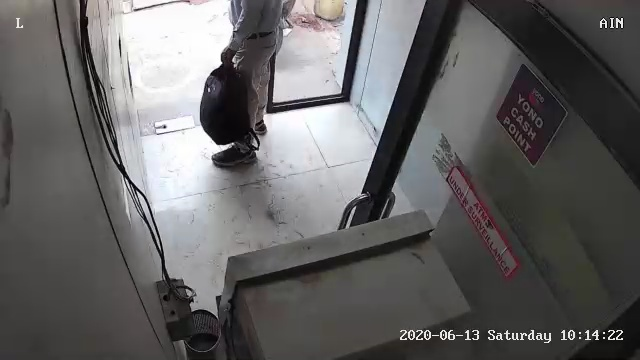open: (112, 3, 377, 180)
